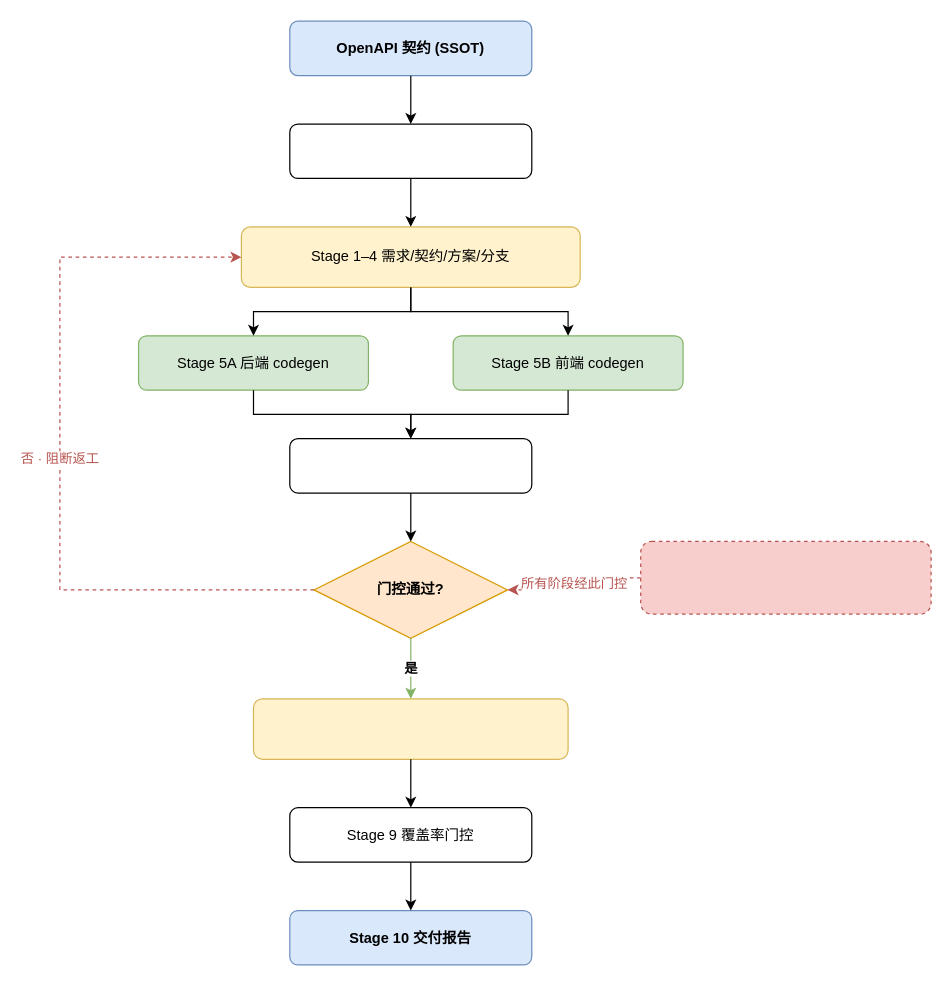
This 952x986 diagram has some shape labels left out. Here are the shapes that lost their labels. From the top down, the centre of each, then its label:
[410,150]: Stage 0 初始化
[410,465]: Stage 6 跨栈一致性
[785,577]: transition.py 唯一入口
[410,728]: Stage 7/8 评审 + 测试 (并行)
